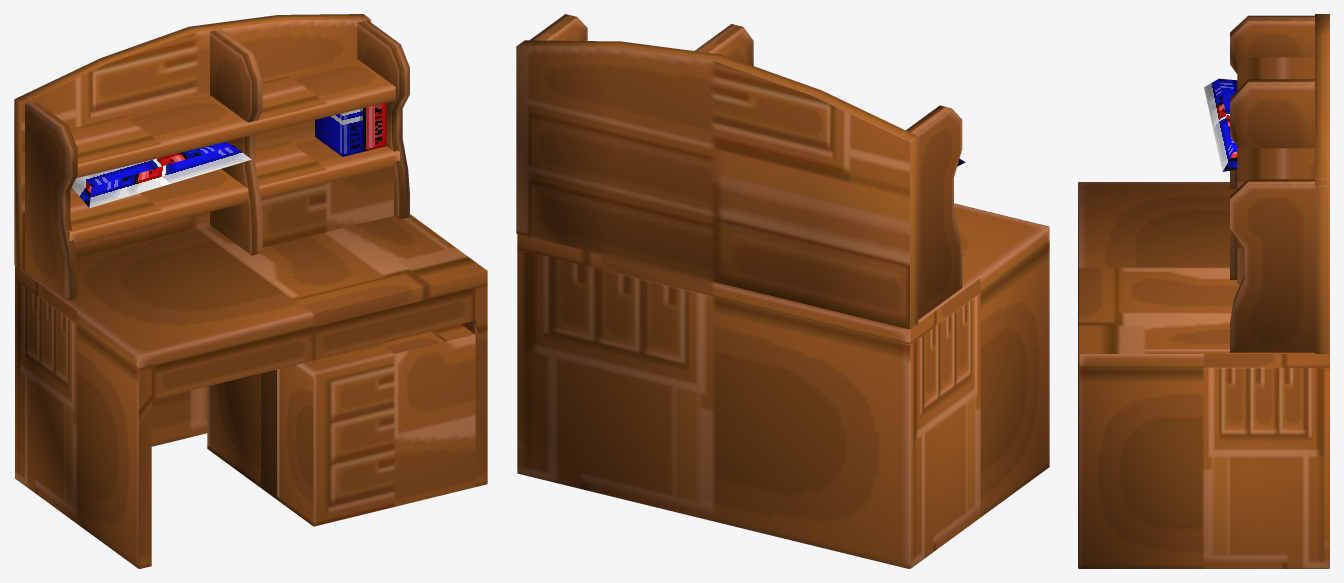
File: int_std_desk.dae
3 views of the same model, side by side, from view 1: azimuth 30°, elevation 25°; view 2: azimuth 150°, elevation 25°; view 3: azimuth 270°, elevation 25° (orthographic). The views are drawn at different scales.
Visible parts, largest first — view 1: int_std_desk; view 2: int_std_desk; view 3: int_std_desk.
Boxes of the visible parts, x1=… form: int_std_desk: x1=14, y1=14, x2=487, y2=568; int_std_desk: x1=516, y1=14, x2=1049, y2=568; int_std_desk: x1=1078, y1=14, x2=1329, y2=568.
Size of the model in its own units: 44 by 49.2 by 27.2.
3 materials, 3 textured.
